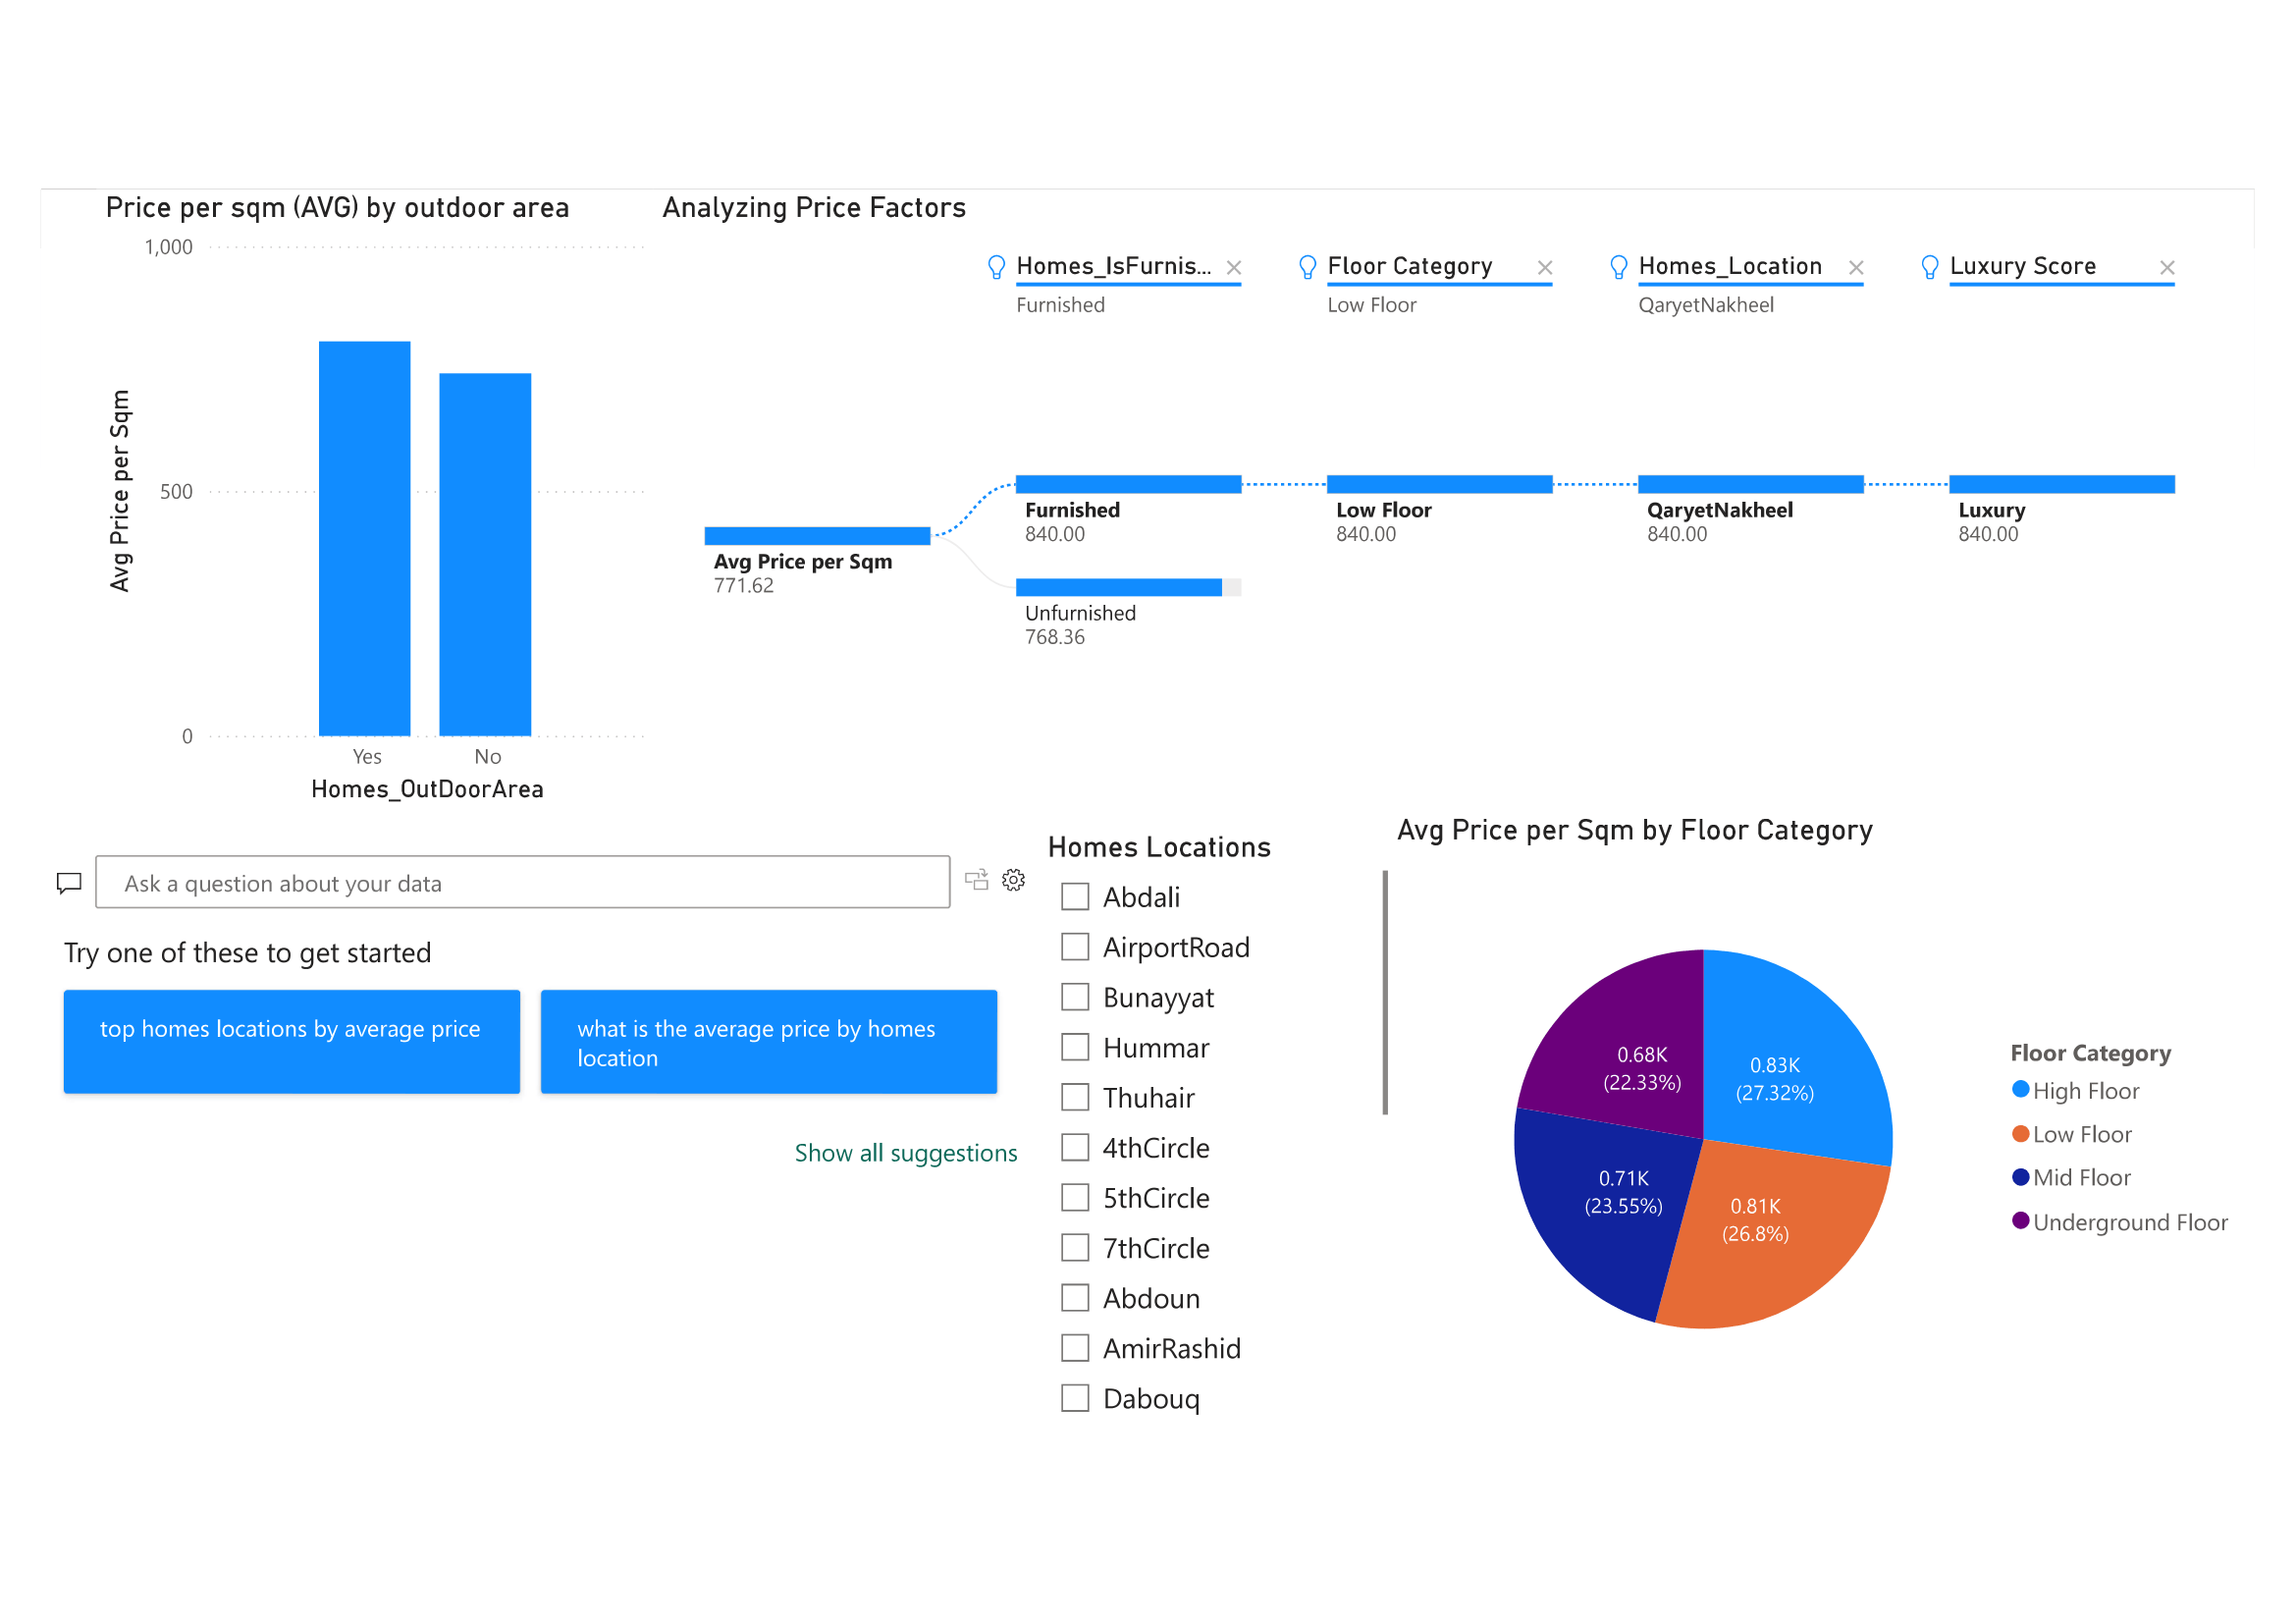

This screenshot's page, from the dashboard's own definition file:
{"tool":"powerbi","page":{"name":"Factors","canvas":[1280,720],"ordinal":1},"visuals":[{"type":"qnaVisual","box":[0,360,577.1,360],"z":0},{"type":"decompositionTreeVisual","title":"Analyzing Price Factors","fields":{"Analyze":["Sheet1.Avg Price per Sqm"],"ExplainBy":["Sheet1.Homes_IsFurnished","Sheet1.Floor Category","Sheet1.Homes_Location","Sheet1.Luxury Score"]},"box":[354,0,926.2,359.5],"z":1000},{"type":"slicer","title":"Homes Locations","fields":{"Values":["Sheet1.Homes_Location"]},"box":[577.1,370,211.4,350],"z":2000},{"type":"columnChart","title":"Price per sqm (AVG) by outdoor area","fields":{"Y":["Sheet1.Avg Price per Sqm"],"Category":["Sheet1.Homes_OutDoorArea"]},"box":[31.6,0,322.5,359.5],"z":3000},{"type":"pieChart","fields":{"Category":["Sheet1.Floor Category"],"Y":["Sheet1.Avg Price per Sqm"]},"box":[780,360,500,360],"z":4000}]}

Visuals, with their boxes on the page's 1280x720 design canvas (x1, y1, x2, y2). These are canvas units, not pixel positions in the 2296x1624 screenshot, which may show the page scaled, cropped or inside an application window:
qnaVisual: BBox(0, 360, 577, 720)
"Analyzing Price Factors" decompositionTreeVisual: BBox(354, 0, 1280, 360)
"Homes Locations" slicer: BBox(577, 370, 788, 720)
"Price per sqm (AVG) by outdoor area" columnChart: BBox(32, 0, 354, 360)
pieChart - Sheet1.Floor Category x Sheet1.Avg Price per Sqm: BBox(780, 360, 1280, 720)
